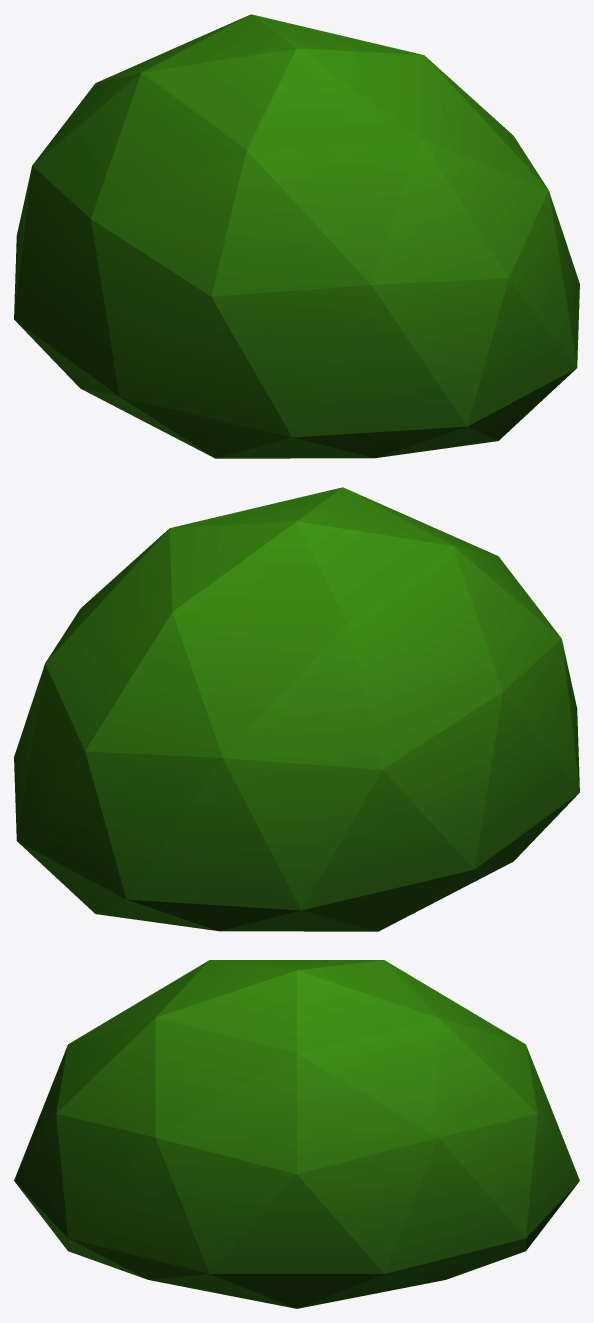
File: Bush.fbx
The picture shows the model from 3 angles, top to bottom: view 1: azimuth 30°, elevation 25°; view 2: azimuth 150°, elevation 25°; view 3: azimuth 270°, elevation 25°; orthographic projection. The views are drawn at different scales.
Visible parts, largest first — view 1: Bush; view 2: Bush; view 3: Bush.
Boxes of the visible parts, x1=… form: Bush: x1=14, y1=14, x2=579, y2=458; Bush: x1=14, y1=487, x2=579, y2=931; Bush: x1=14, y1=960, x2=579, y2=1308.
Bounding box in the file's own units: 119 × 82.19 × 152.
1 material, 1 textured.
